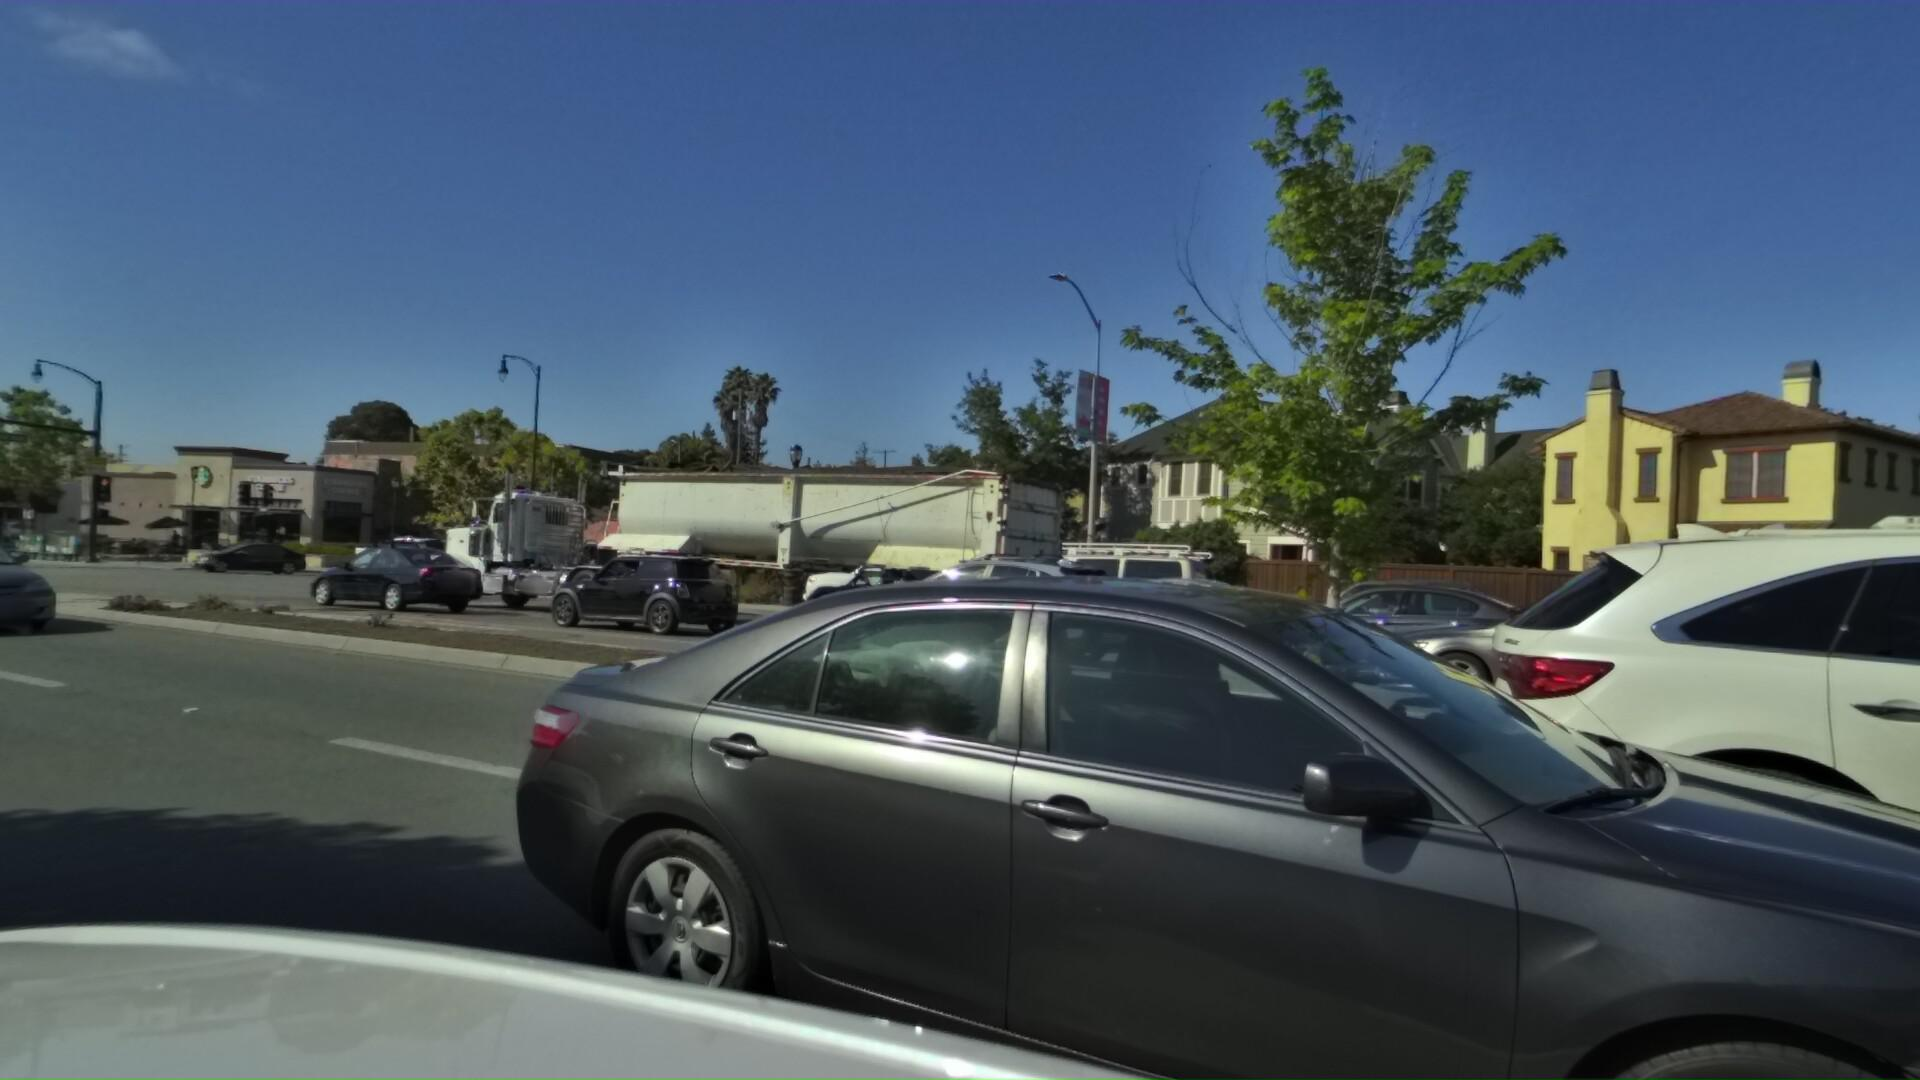bicycle: (169, 529, 183, 563)
car: (410, 495, 1920, 1080), (1516, 506, 1920, 1080), (1305, 570, 1844, 756), (1184, 566, 1547, 702), (794, 538, 1118, 682), (1226, 566, 1482, 676), (972, 533, 1213, 647), (997, 564, 1273, 665), (506, 547, 735, 647), (276, 529, 488, 628), (775, 549, 996, 640), (771, 564, 947, 636), (0, 516, 82, 653), (345, 529, 485, 582), (171, 541, 297, 579)
other_vehicle: (1622, 501, 1920, 745)
truck: (386, 458, 1059, 675)
